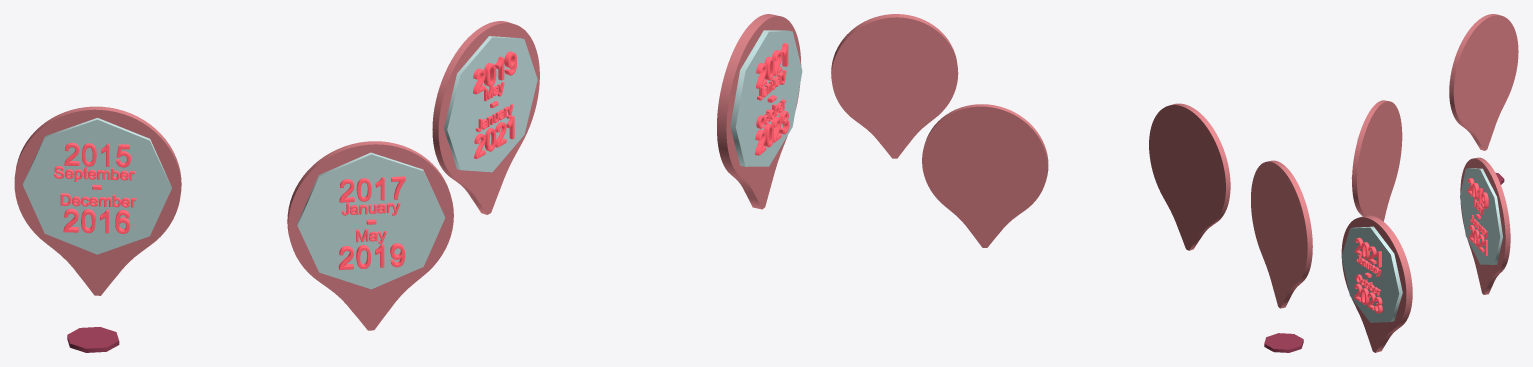
Rendered from assembly-date-bubble.gltf.
The picture shows the model from 3 angles, left to right: view 1: azimuth 30°, elevation 25°; view 2: azimuth 150°, elevation 25°; view 3: azimuth 270°, elevation 25°; orthographic projection. The views are drawn at different scales.
Visible parts, largest first — view 1: FirstDate, SecondDate, ThirdDate, FourthDate, Cylinder002.003; view 2: FourthDate, ThirdDate, SecondDate, FirstDate, Cylinder002.003; view 3: FourthDate, FirstDate, ThirdDate, SecondDate.
Part boxes in pixels (x1,y1,x2,y2): FirstDate: [14, 106, 181, 295]; SecondDate: [287, 141, 453, 330]; ThirdDate: [432, 21, 539, 214]; FourthDate: [717, 14, 802, 209]; Cylinder002.003: [67, 327, 119, 352]; FourthDate: [831, 14, 958, 158]; ThirdDate: [922, 104, 1048, 247]; SecondDate: [1149, 103, 1230, 250]; FirstDate: [1251, 160, 1312, 308]; Cylinder002.003: [1264, 333, 1303, 352]; FourthDate: [1341, 215, 1412, 352]; FirstDate: [1449, 14, 1518, 150]; ThirdDate: [1460, 157, 1510, 294]; SecondDate: [1351, 100, 1402, 221].
Bounding box in the file's own units: 53.36 × 16.76 × 16.34.
